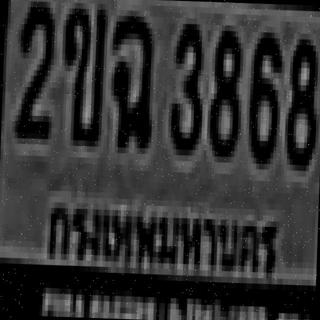A02: (59, 0, 106, 140)
A09: (108, 10, 154, 148)
N02: (14, 0, 52, 133)
N03: (168, 17, 202, 150)
N06: (245, 29, 280, 161)
N08: (282, 33, 318, 165), (206, 24, 241, 157)
P04: (39, 180, 286, 284)
